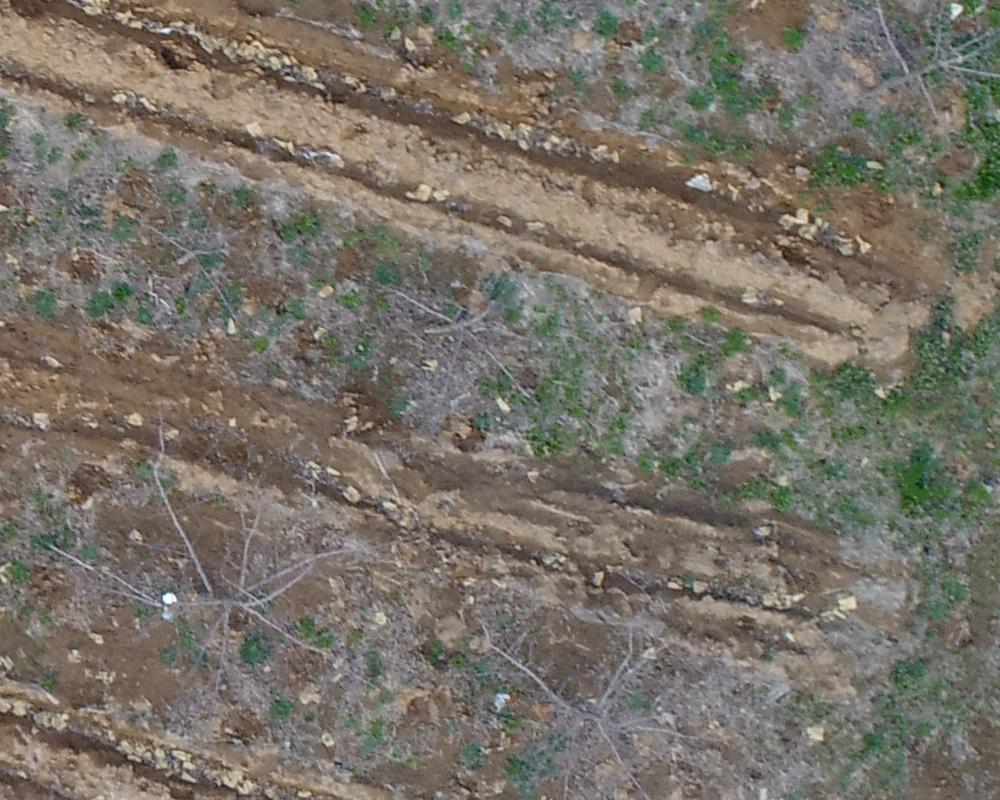apple: (51, 431, 357, 688), (459, 615, 696, 790), (804, 10, 990, 138), (384, 273, 533, 408)
